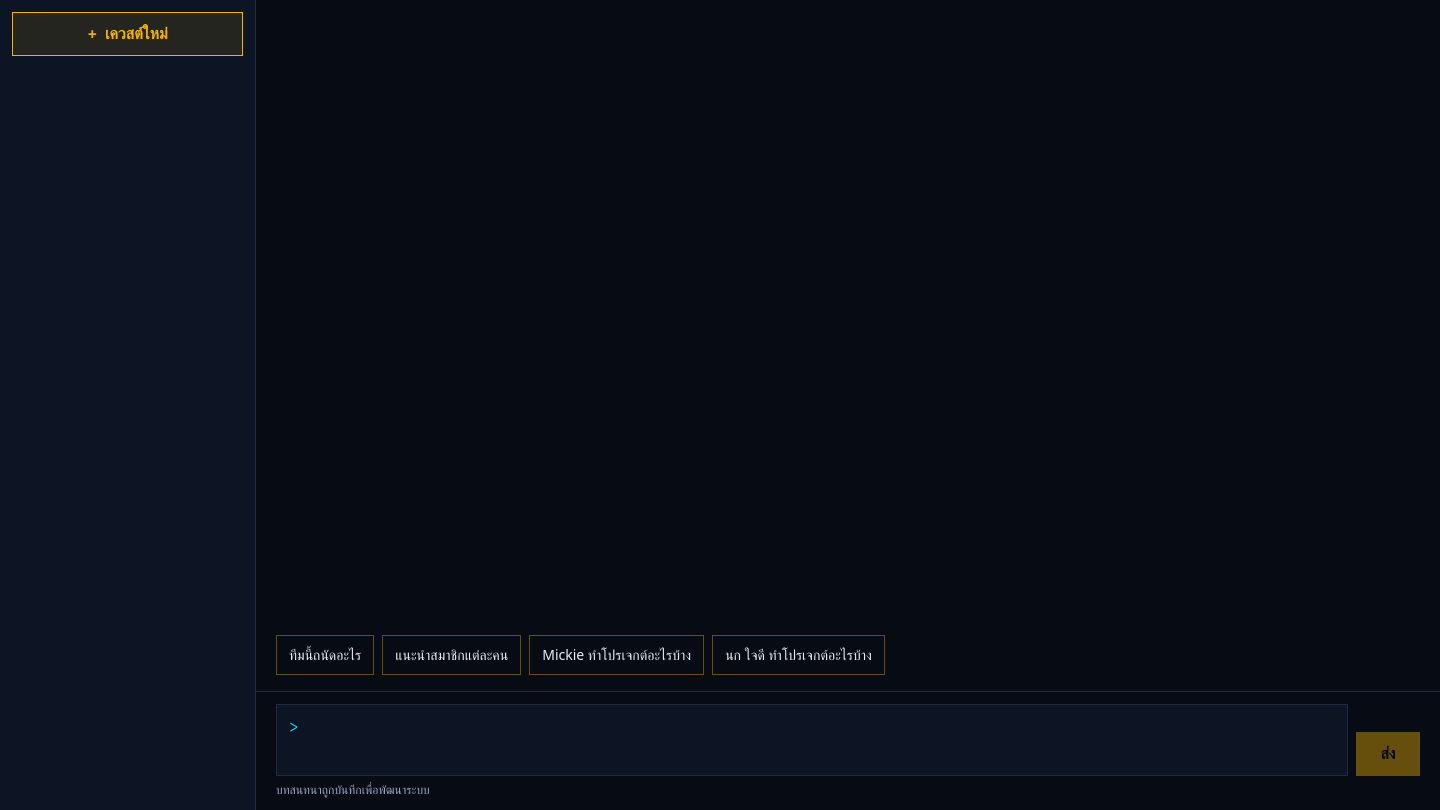
Test: ChatPage › error message offers resend that re-sends the previous user message
This screenshot has width=1440, height=810.
In the text box named "ข้อความ": (823, 740) [299,705,1347,775], type "คำถาม"
Then press Enter
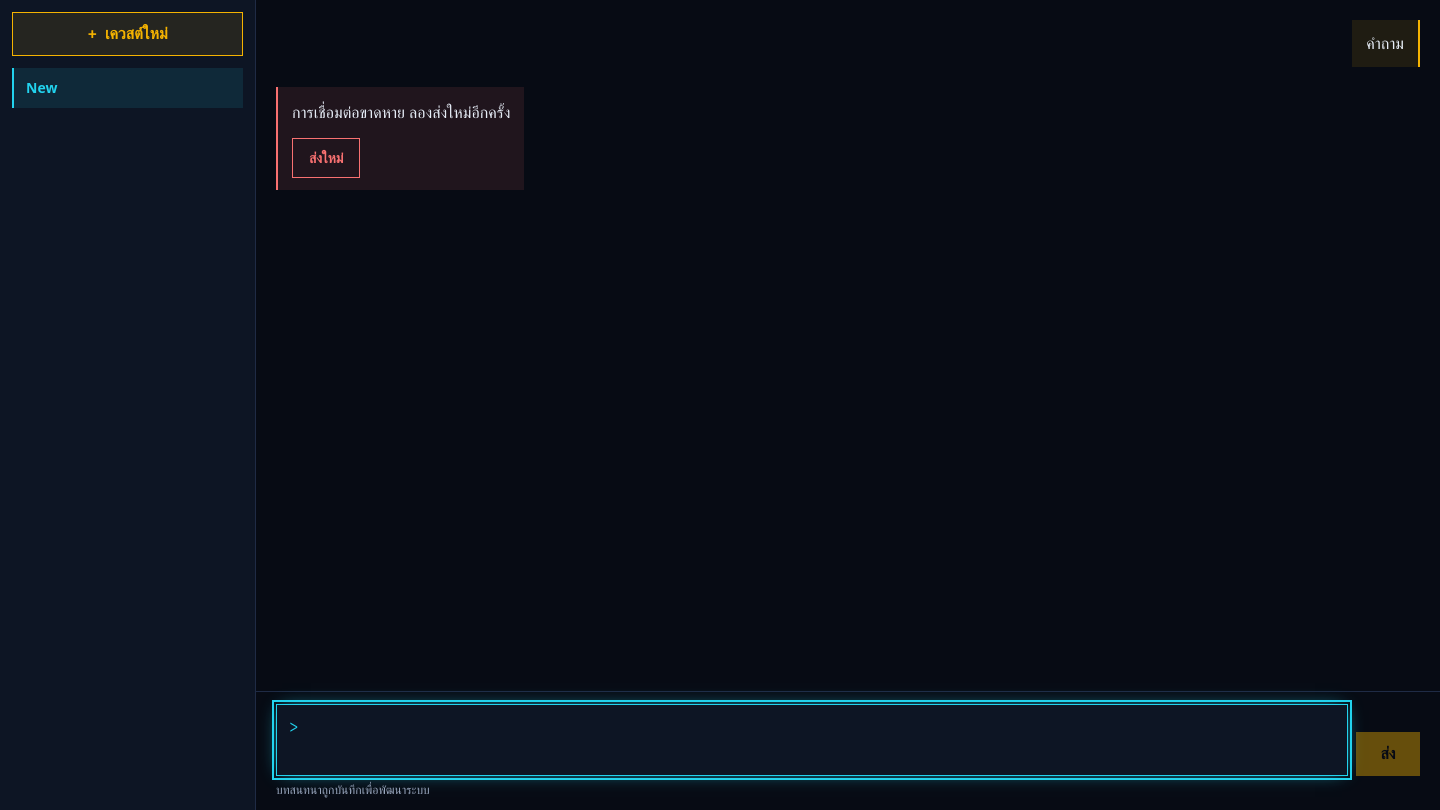
Now the text "การเชื่อมต่อขาดหาย ลองส่งใหม่อีกครั้ง" is shown, box [292,99,510,126]
Click the button "ส่งใหม่": click(326, 158) [292,138,360,178]
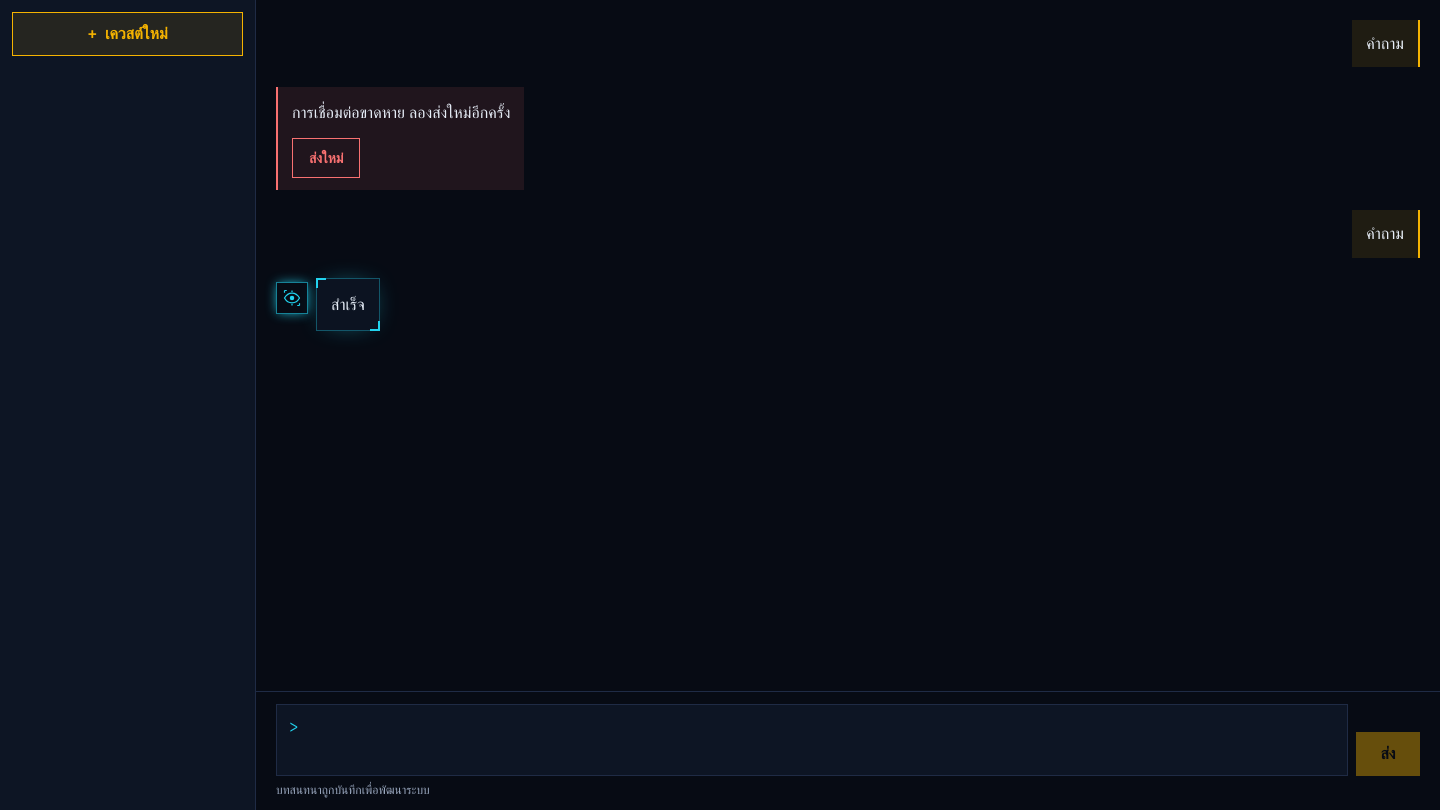
Now the 1st text "คำถาม" is shown, box [1366,30,1404,57]
Now the text "สำเร็จ" is shown, box [331,291,365,318]
